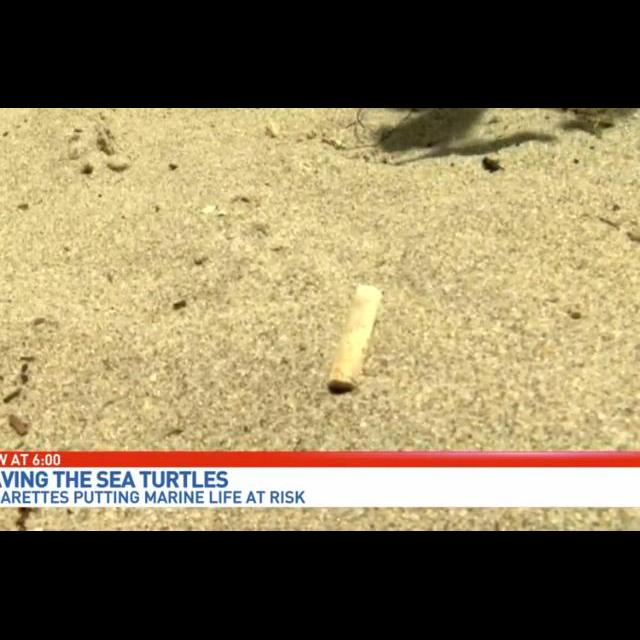Cigarette Butt: (325, 283, 384, 395)
